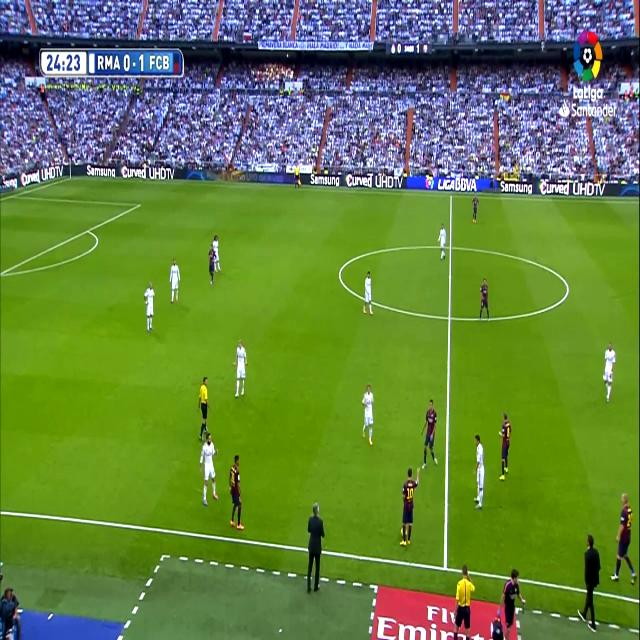halfcircle_bottom: (445, 306, 455, 328)
halfcircle_top: (446, 237, 455, 255)
midline_bottom_intersection: (440, 557, 450, 575)
midline_top_intersection: (448, 190, 454, 201)
